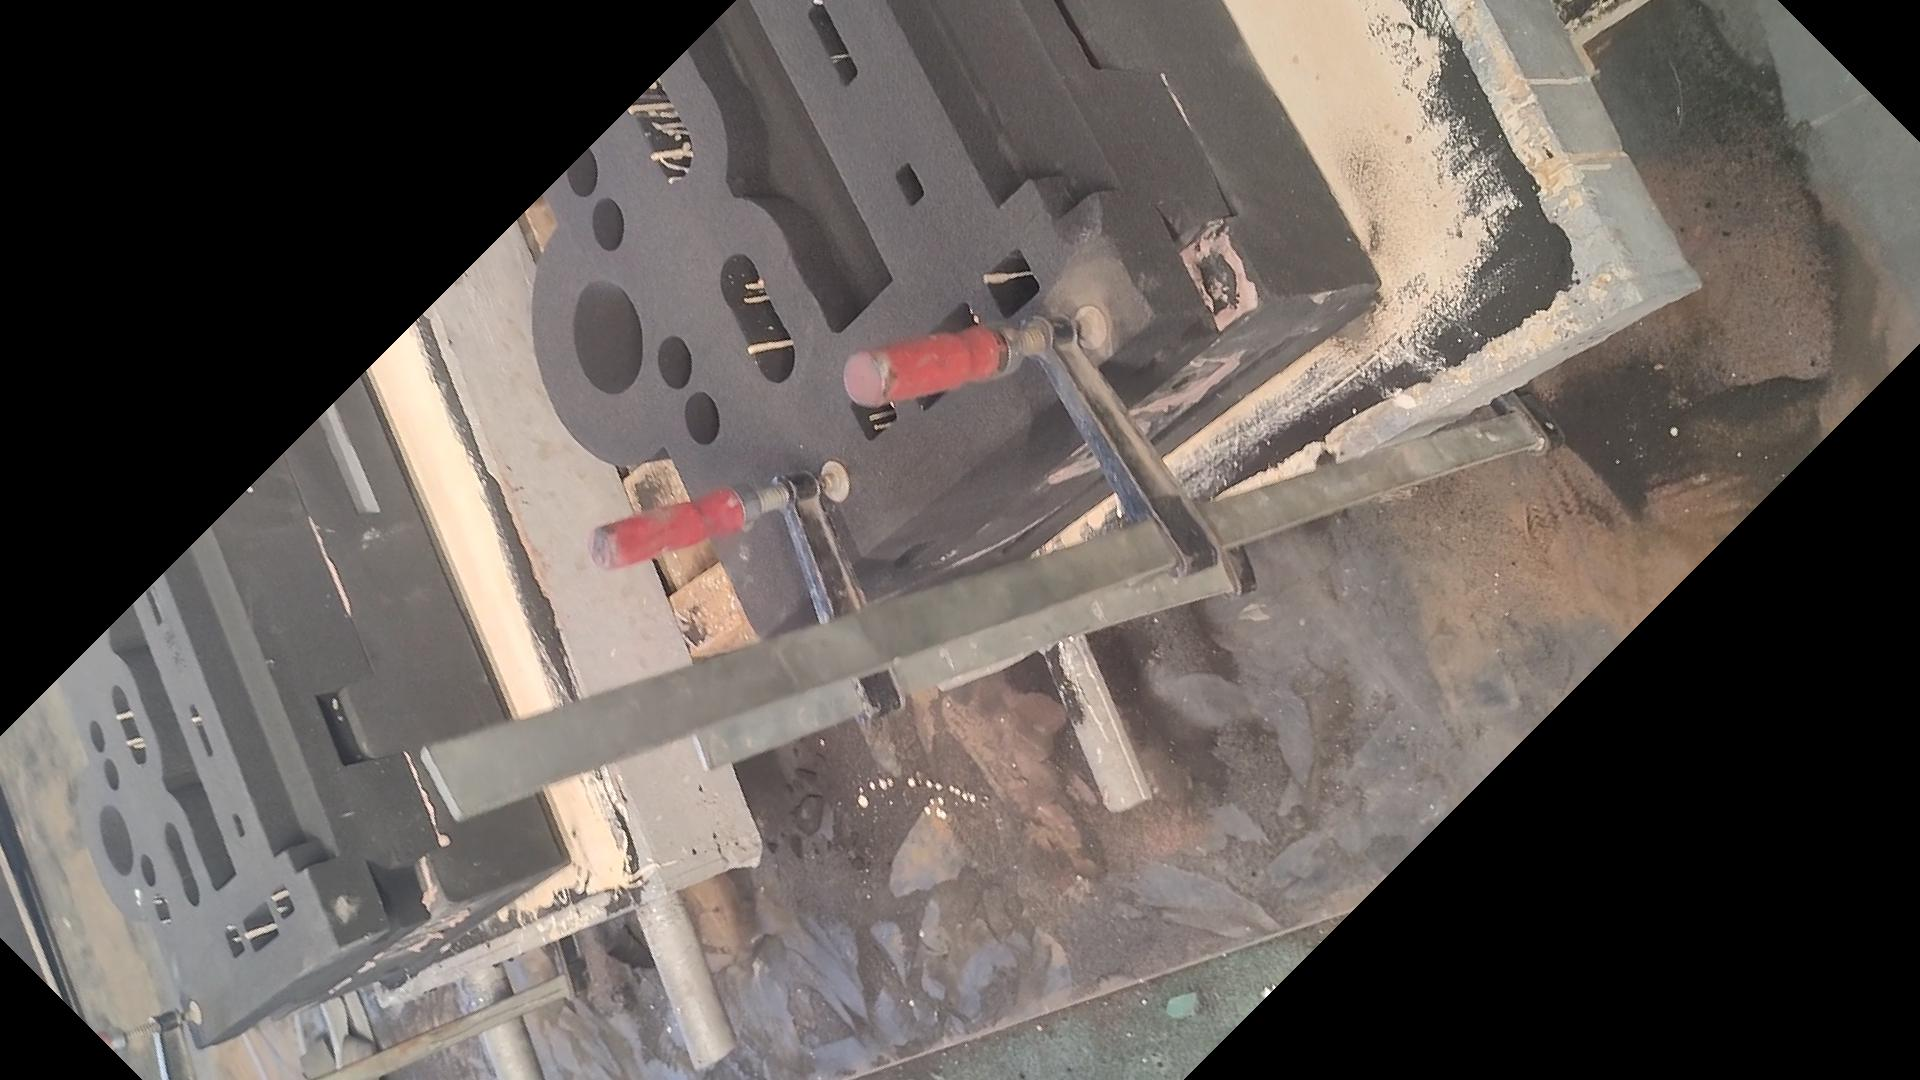pouring hole: (574, 280, 644, 394), (98, 804, 135, 878)
